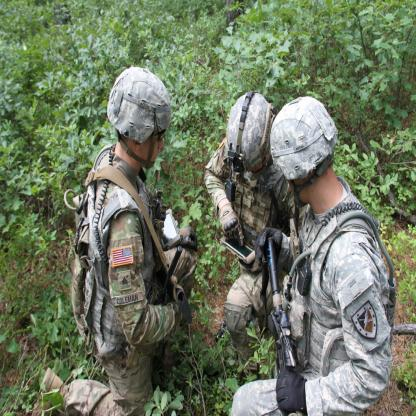Helmet: (268, 96, 338, 232), (107, 71, 170, 175), (225, 89, 270, 176)
